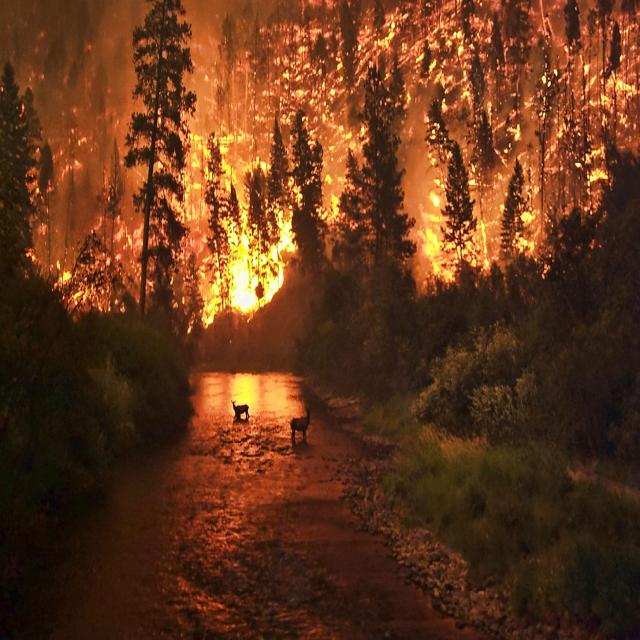Fire: (74, 124, 543, 335)
